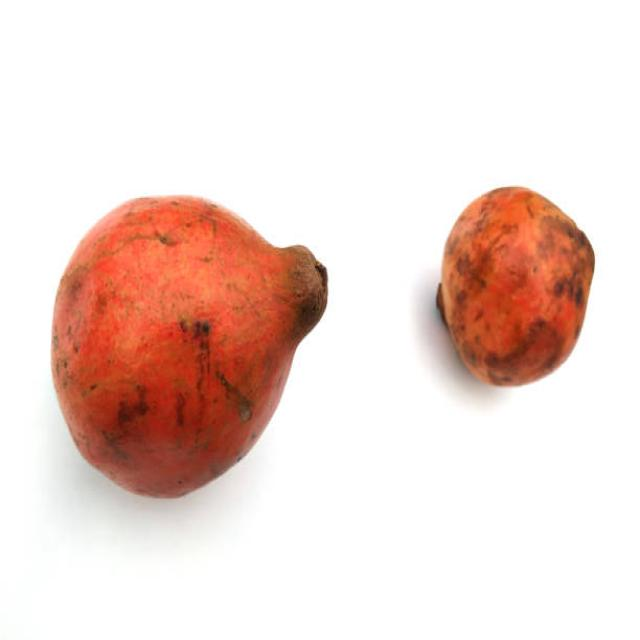overripe: (48, 190, 328, 507), (433, 180, 597, 390)
